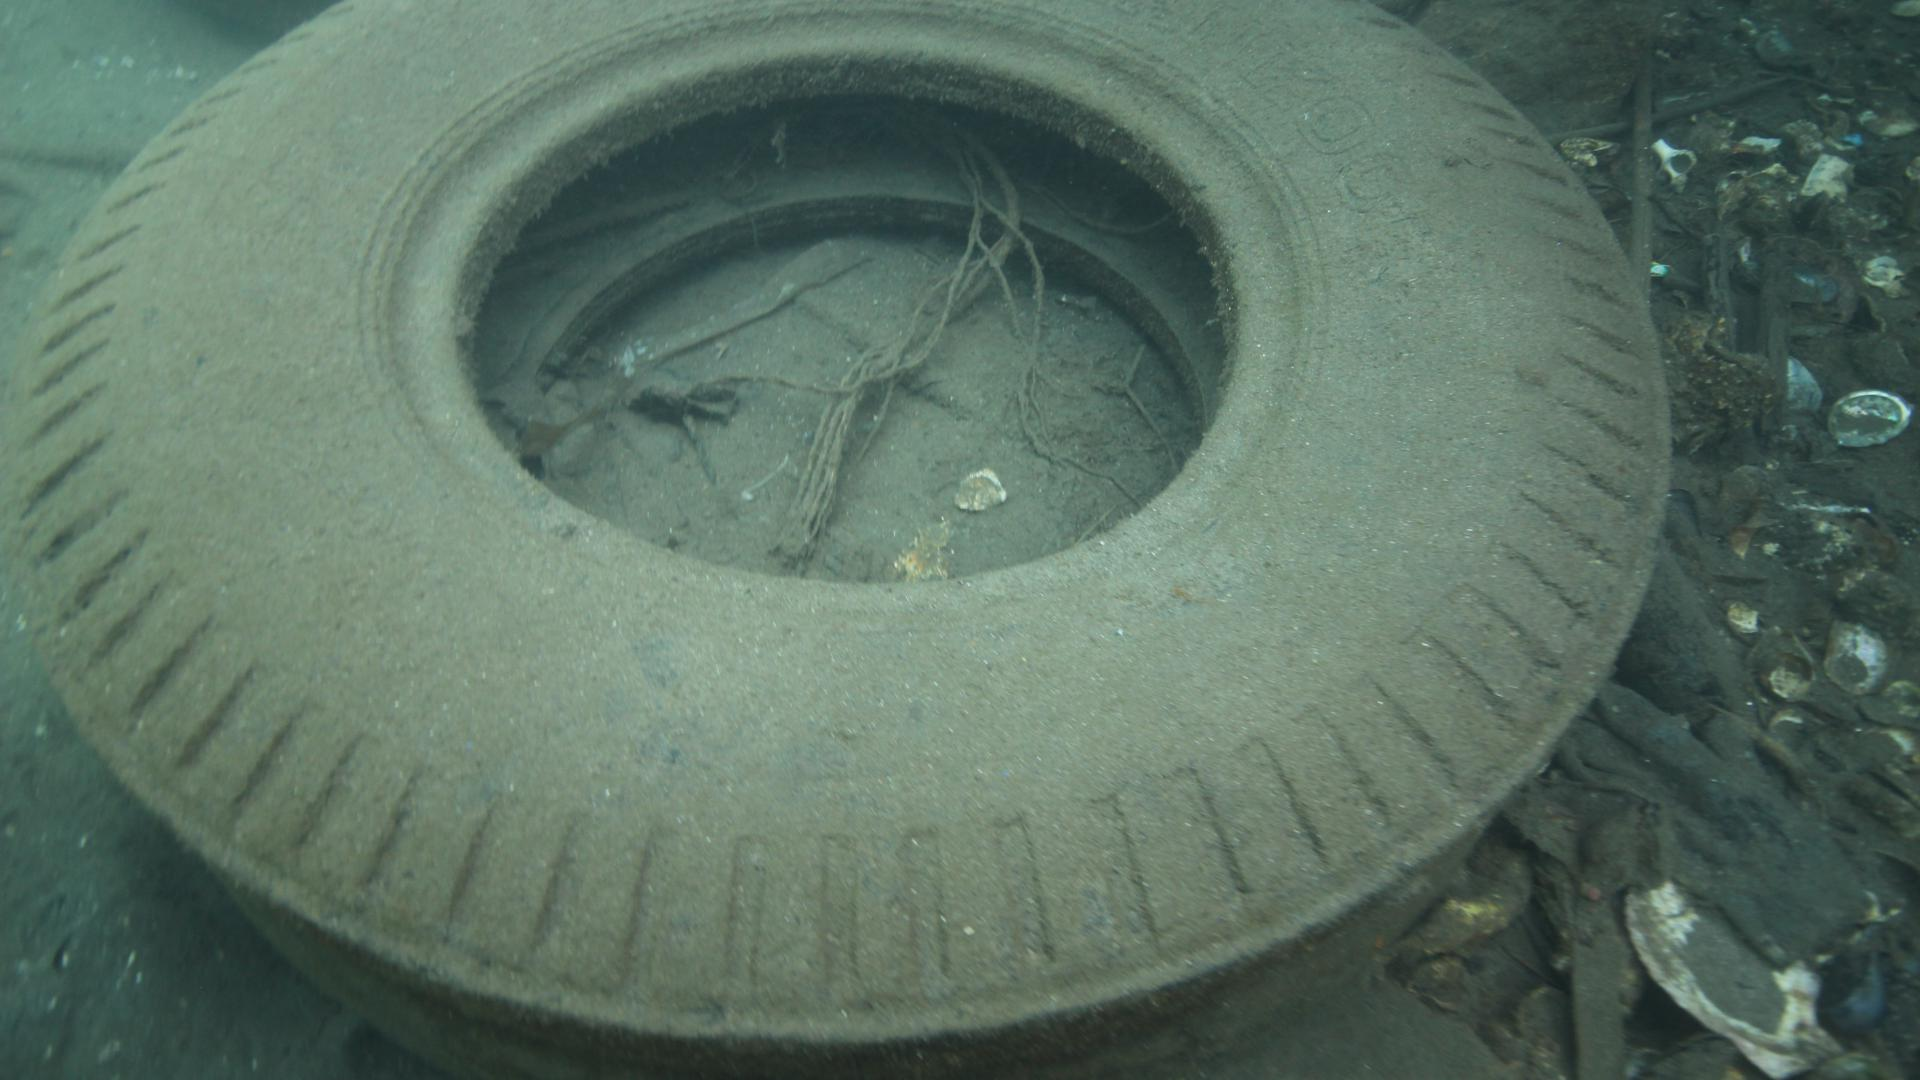tire: (4, 0, 1673, 1080)
